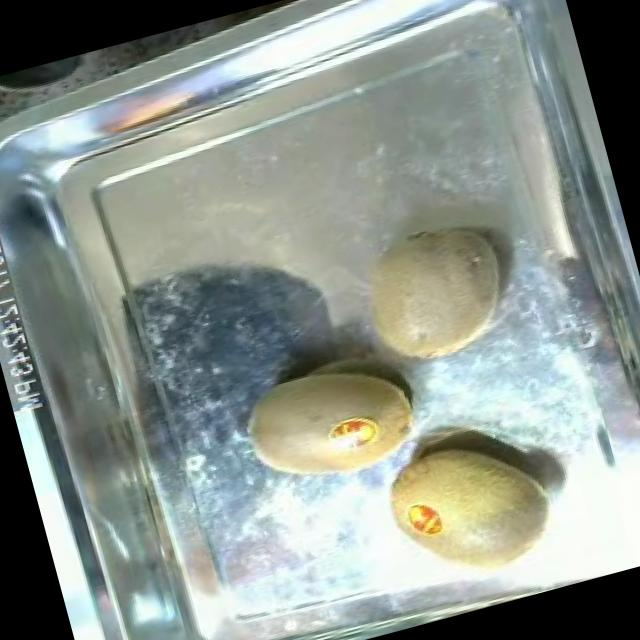Fruit: (369, 409, 575, 606), (227, 337, 438, 508), (336, 204, 528, 382)
